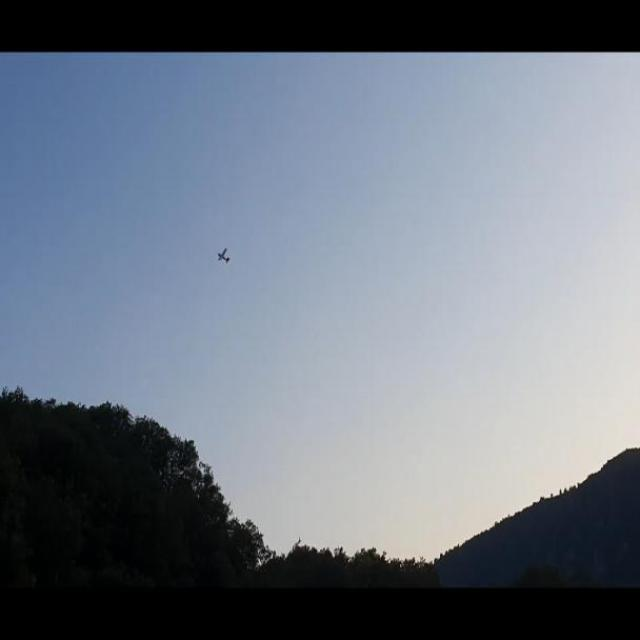iha: (217, 248, 232, 265)
